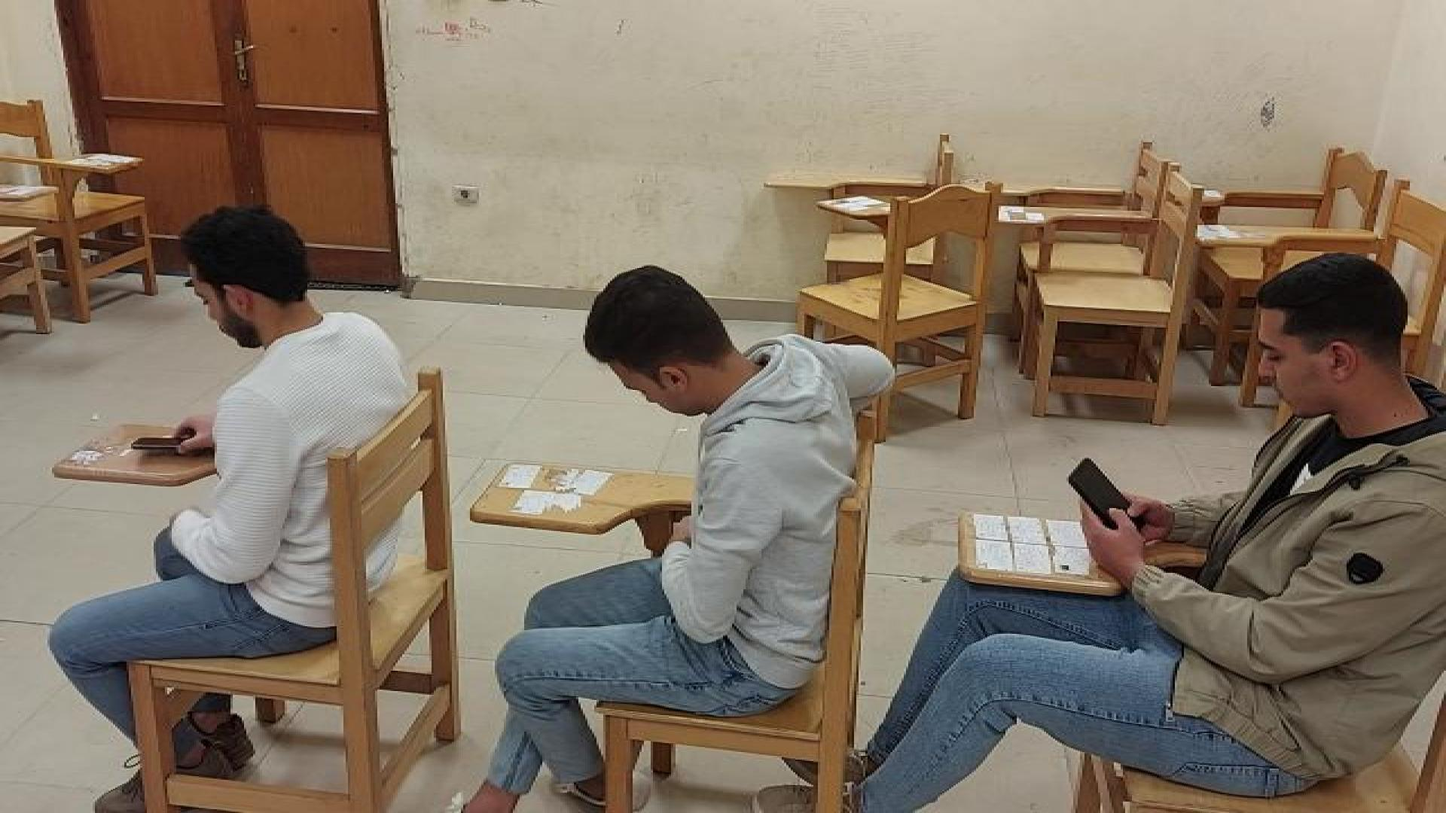phone: (1066, 457, 1146, 537)
